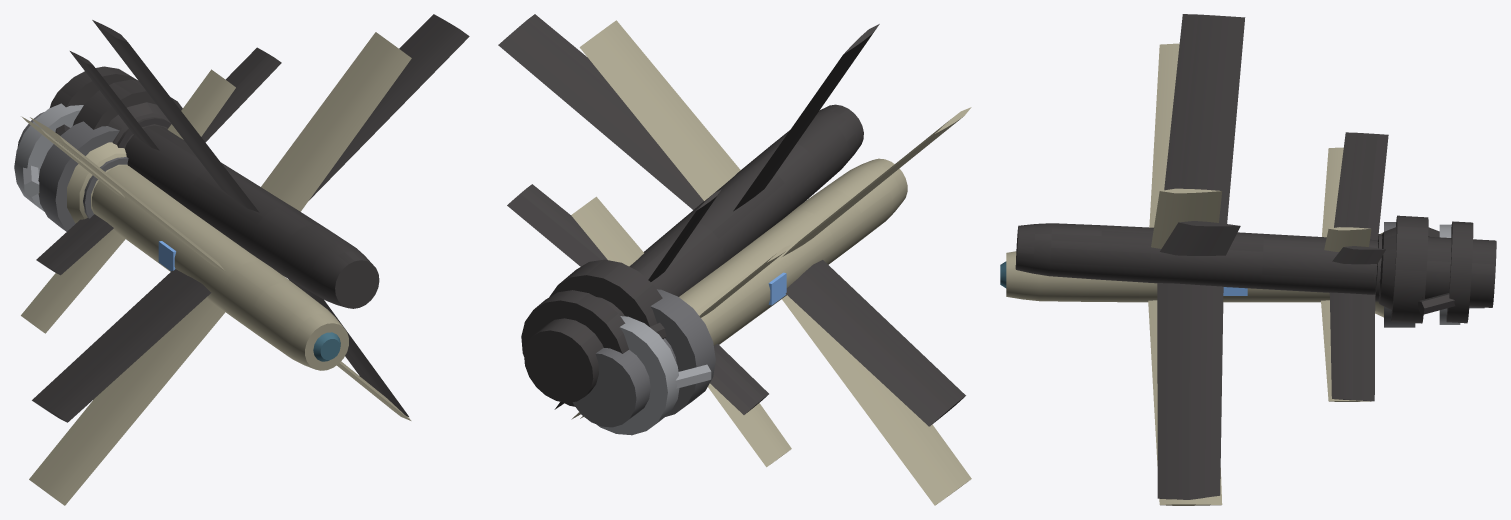
The model's file is loiterer__loitering_munition.glb.
The picture shows the model from 3 angles, left to right: view 1: azimuth 30°, elevation 25°; view 2: azimuth 150°, elevation 25°; view 3: azimuth 270°, elevation 25°; orthographic projection. The views are drawn at different scales.
Visible parts, largest first — view 1: Fuselage_Mesh, Wreck, Propeller_Mesh; view 2: Wreck, Fuselage_Mesh, Propeller_Mesh; view 3: Wreck, Fuselage_Mesh, Propeller_Mesh.
Boxes of the visible parts, box(x1,y1,x2,y2) form: Fuselage_Mesh: box(21, 32, 411, 505); Wreck: box(32, 14, 469, 422); Propeller_Mesh: box(14, 103, 128, 231); Wreck: box(498, 14, 965, 426); Fuselage_Mesh: box(571, 20, 971, 505); Propeller_Mesh: box(572, 289, 715, 435); Wreck: box(1015, 14, 1496, 499); Fuselage_Mesh: box(1000, 43, 1371, 505); Propeller_Mesh: box(1375, 222, 1484, 327).
Size of what is drawn, in the model's own units: 1.21 by 1.21 by 1.43.
